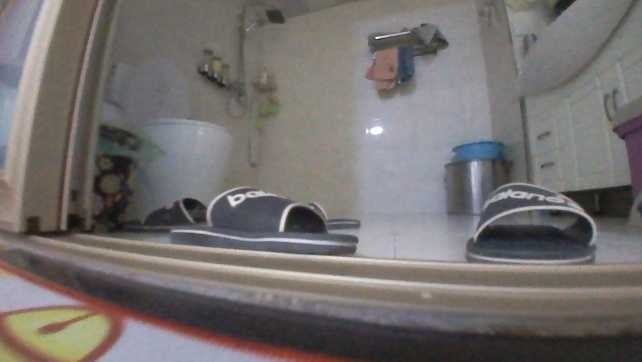door_sill: (13, 230, 641, 360)
slipper: (171, 185, 359, 257), (460, 180, 598, 265)
toilet: (110, 57, 232, 225)
